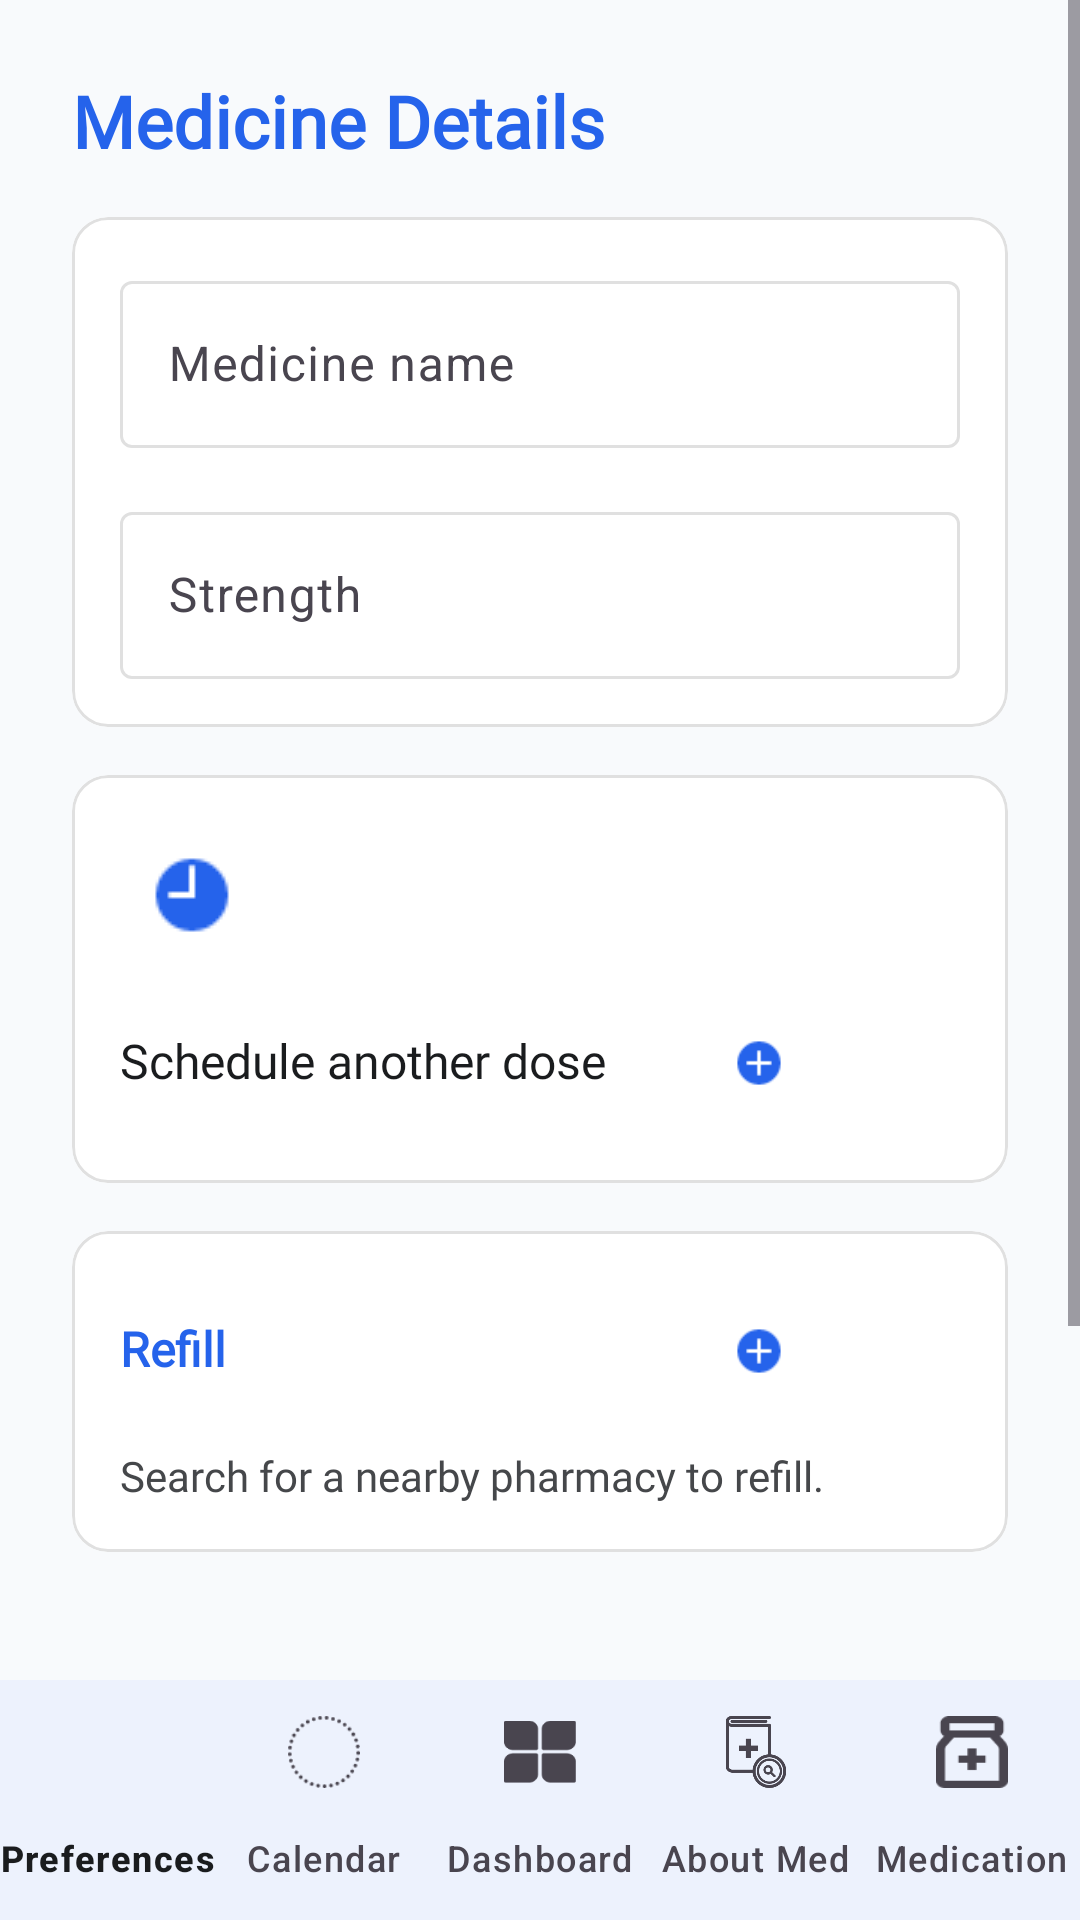

Screen size 1080x1920. Icon name, then its box in pixels as (x1=x1, y1=y1, x2=x2, y2=y2):
add: (x1=737, y1=1041, x2=781, y2=1085), (x1=737, y1=1329, x2=781, y2=1373)
